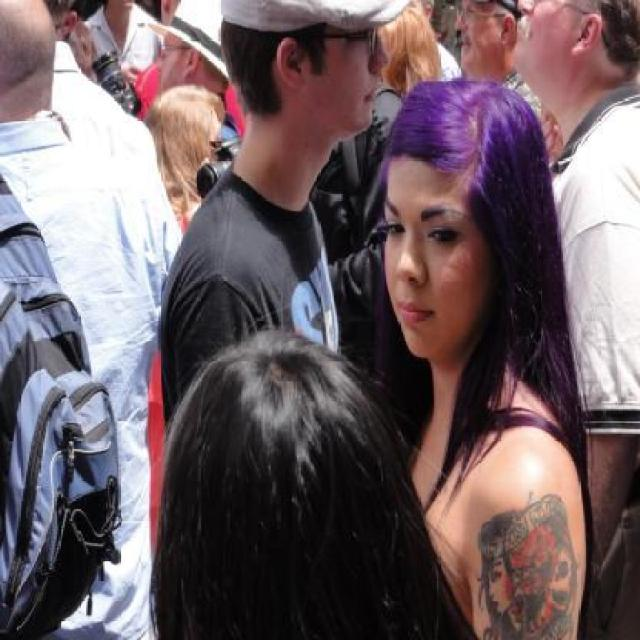backpack: (0, 163, 125, 640)
